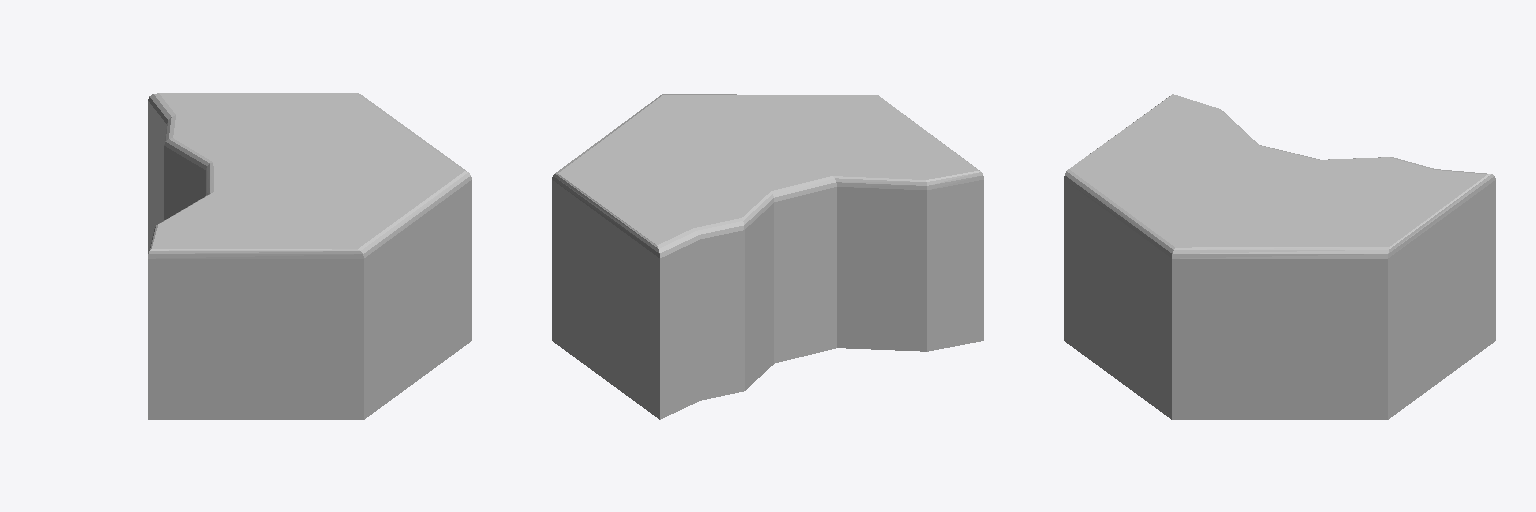
The model's file is hex_rock_waterD_empty.obj.
3 views of the same model, side by side, from view 1: azimuth 30°, elevation 25°; view 2: azimuth 150°, elevation 25°; view 3: azimuth 270°, elevation 25° (orthographic).
Visible parts, largest first — view 1: hex_rock_waterD_empty_Cylinder.604; view 2: hex_rock_waterD_empty_Cylinder.604; view 3: hex_rock_waterD_empty_Cylinder.604.
Boxes of the visible parts, <box> form: hex_rock_waterD_empty_Cylinder.604: <box>148,93,471,419</box>; hex_rock_waterD_empty_Cylinder.604: <box>552,94,983,419</box>; hex_rock_waterD_empty_Cylinder.604: <box>1064,94,1495,419</box>.
Size of the model in its own units: 2 by 1 by 2.31.